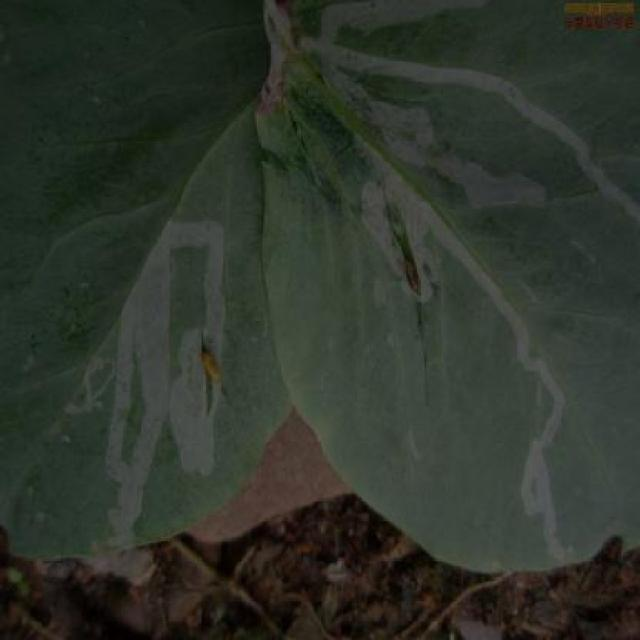whorl-maggot: (397, 248, 426, 306), (195, 337, 223, 388)
